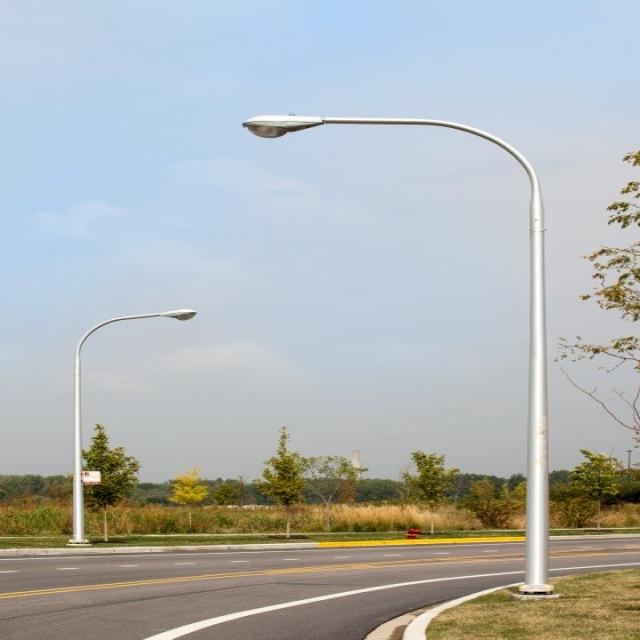Electric pole: (243, 116, 554, 595), (68, 310, 197, 547)
